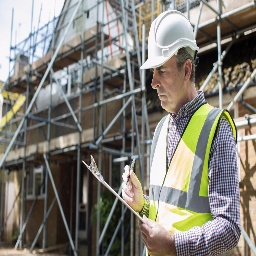helmet: (140, 7, 202, 73)
person: (132, 13, 244, 253)
vest: (149, 102, 239, 242)
